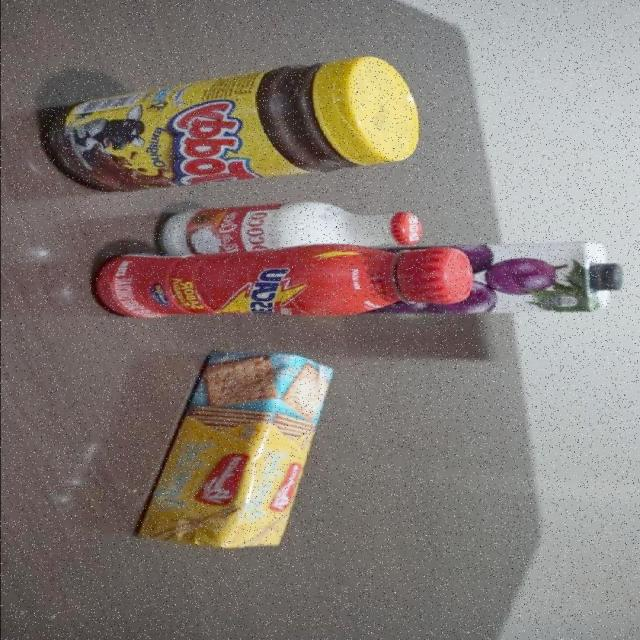ChocolateMilk: (90, 243, 473, 320)
ChocolatePowder: (38, 52, 422, 192)
CoconutMilk: (157, 199, 425, 258)
Cracker: (130, 348, 336, 552)
